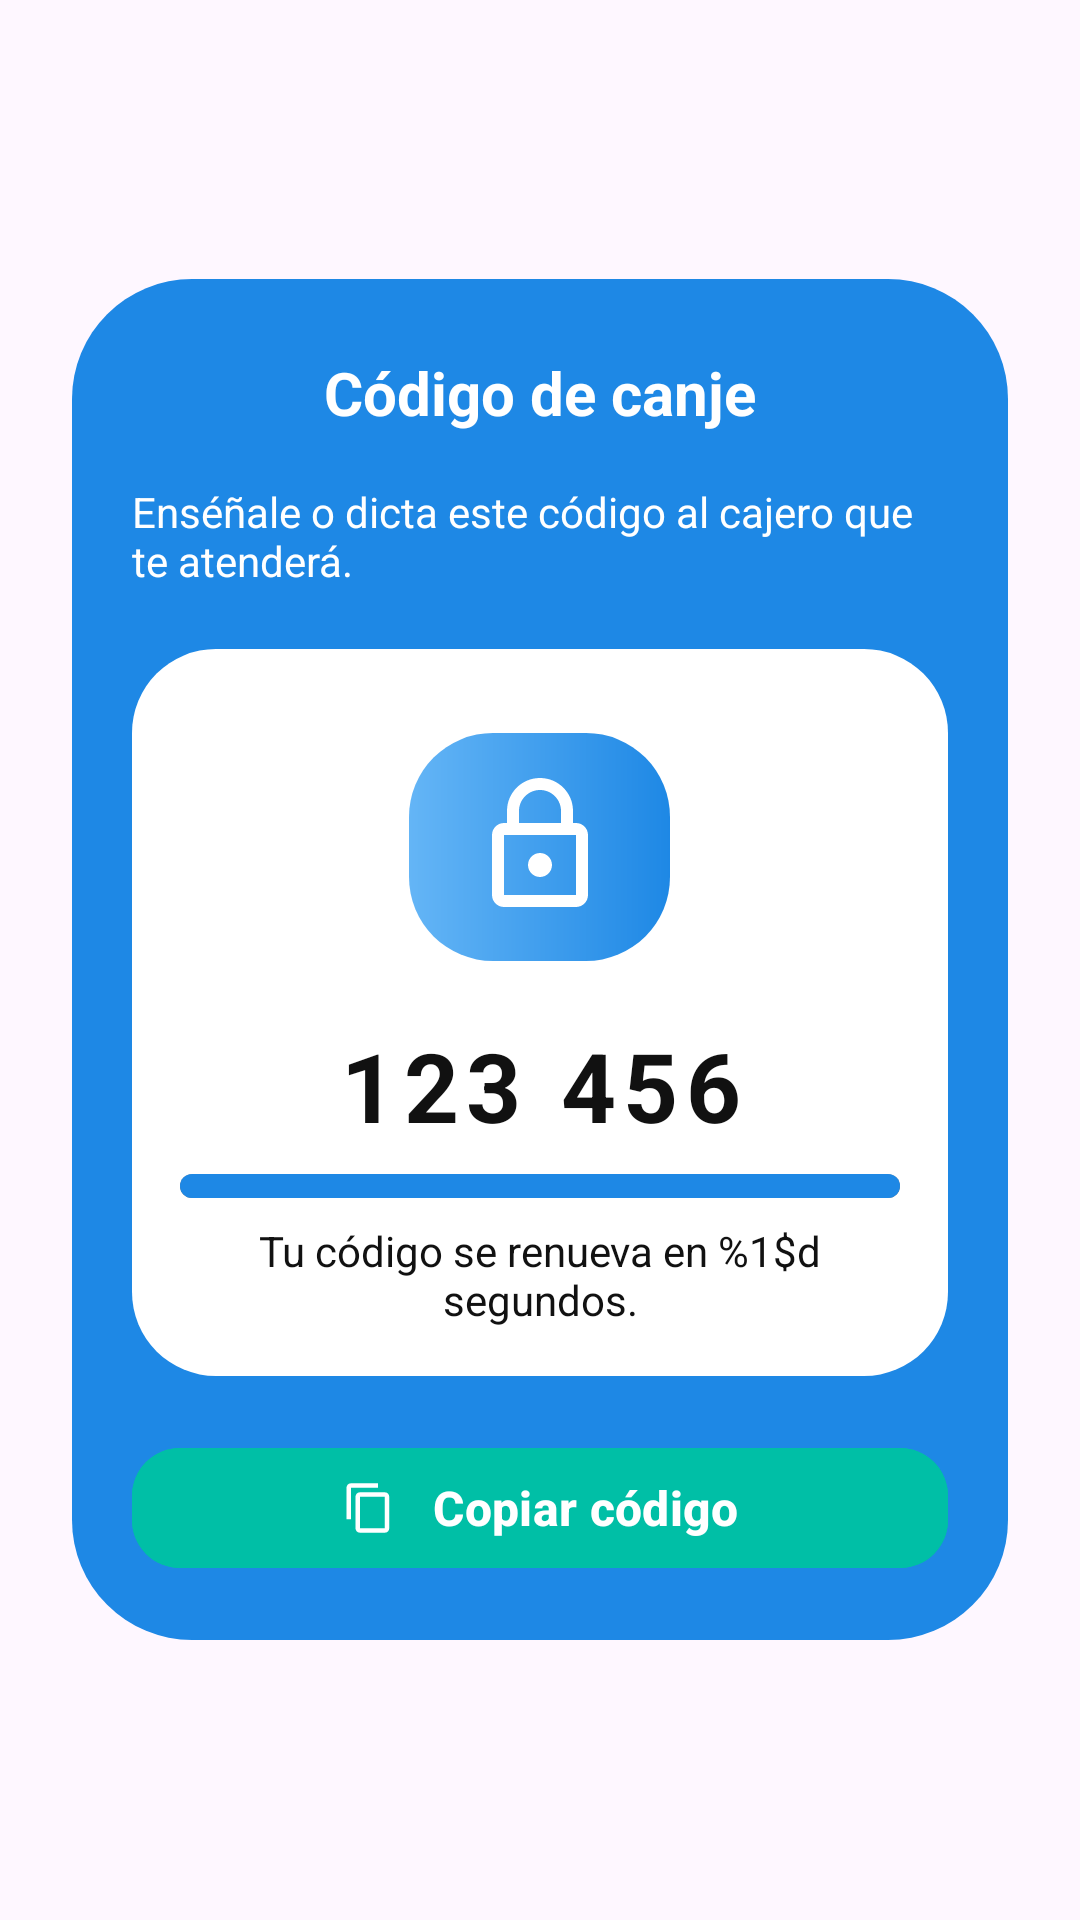

Icon click points for this 1080 x 1920 phone screenshot, format point (x, y):
lock secure: point (540, 847)
